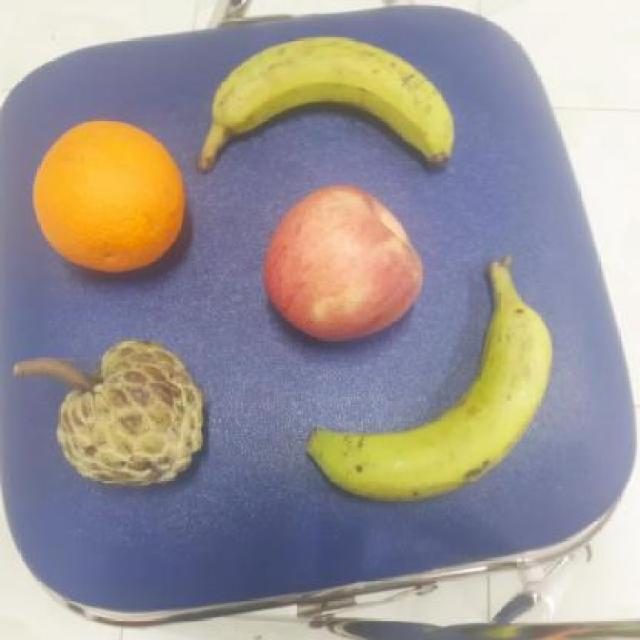apple: (261, 182, 424, 344)
banana: (302, 262, 553, 503), (198, 36, 464, 170)
oren: (25, 118, 196, 274)
sugar apple: (56, 338, 213, 492)
